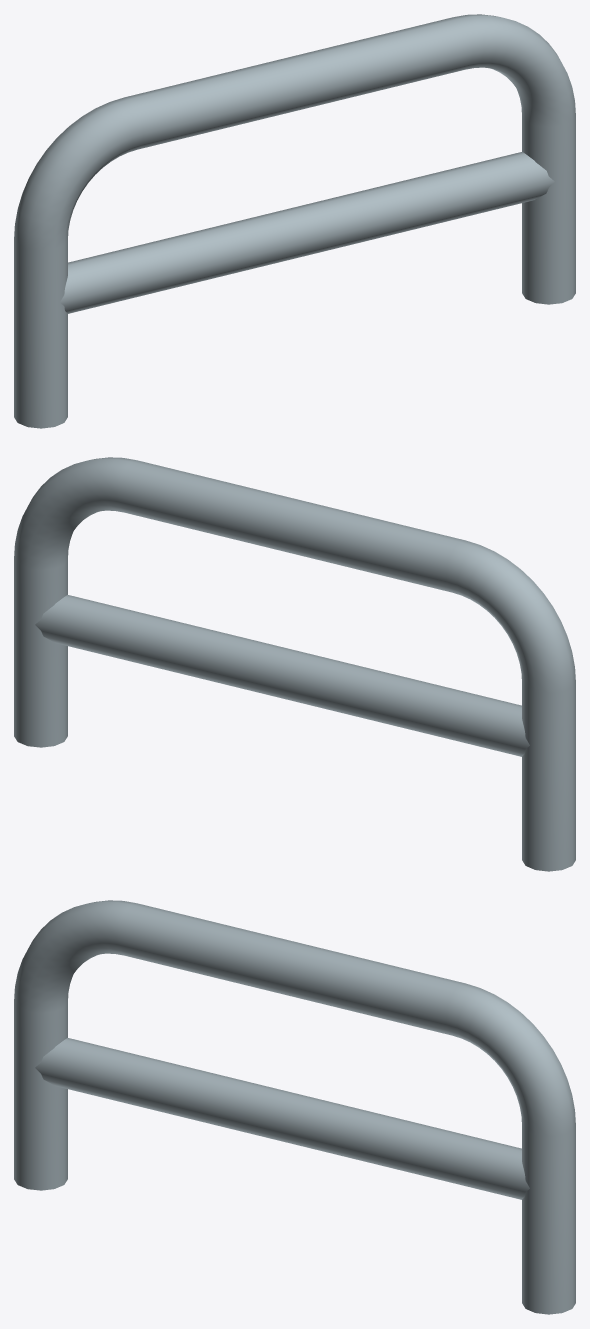
The model's file is barrierSmall-col.glb.
3 renders of one model, top to bottom at view 1: azimuth 30°, elevation 25°; view 2: azimuth 150°, elevation 25°; view 3: azimuth 330°, elevation 25°, orthographic.
Parts seen in each view (by area): view 1: barrierSmall-col; view 2: barrierSmall-col; view 3: barrierSmall-col.
Part boxes in pixels (bbox=[...]): barrierSmall-col: bbox=[14, 14, 575, 428]; barrierSmall-col: bbox=[14, 457, 575, 871]; barrierSmall-col: bbox=[14, 900, 575, 1314].
Size of the model in its own units: 1.96 by 1 by 0.165.
